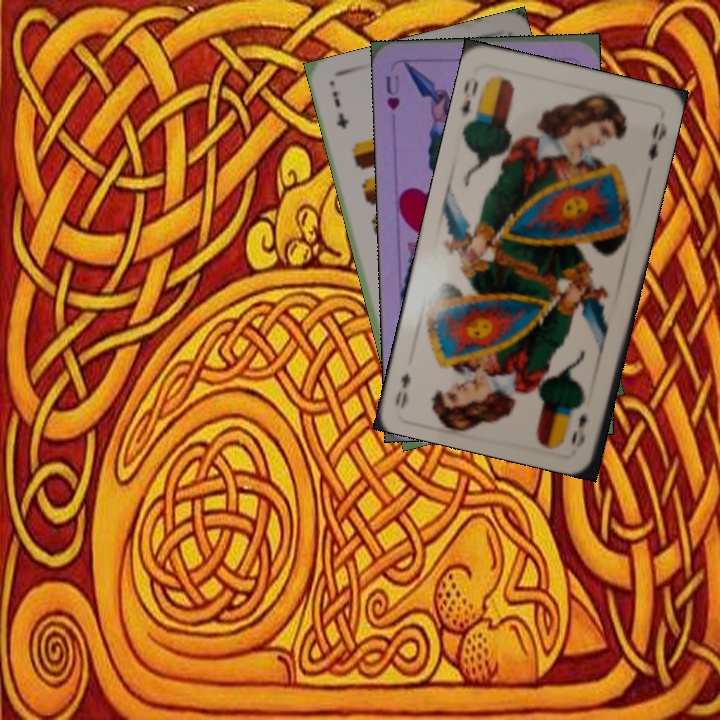E7: (328, 87, 351, 132)
EO: (457, 76, 487, 126), (568, 410, 590, 450)
HU: (382, 72, 402, 113)
